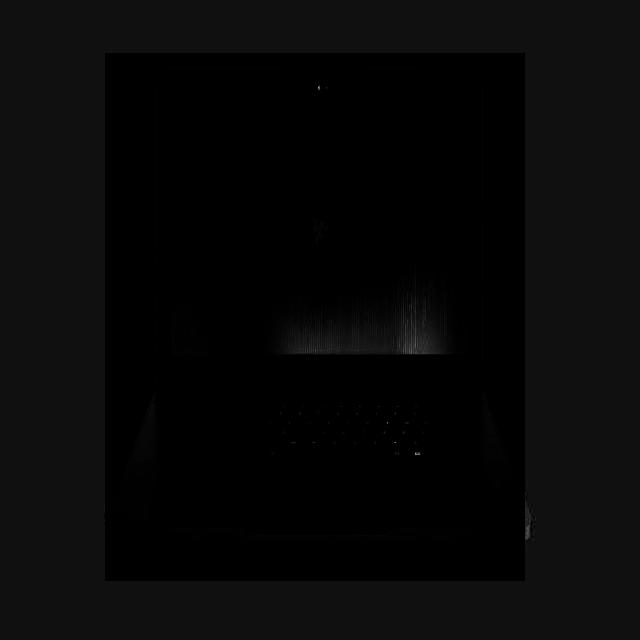-keyboard-: (106, 53, 526, 581)
